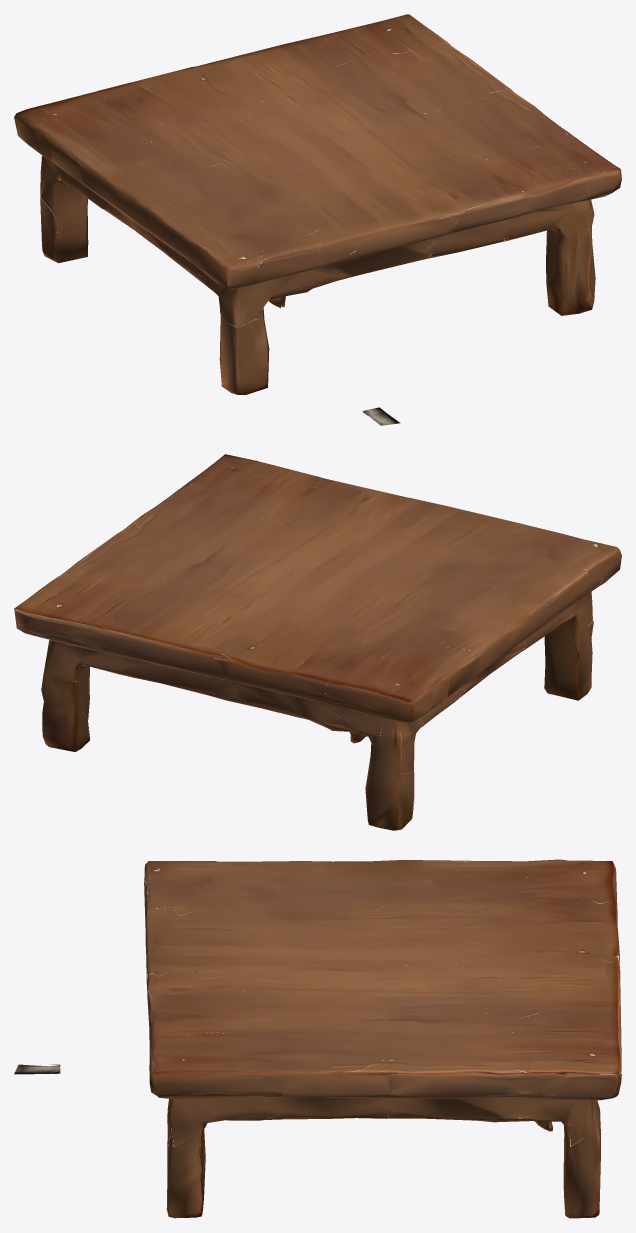
Rendered from tatami_room_set.glb.
3 views of the same model, one above another, from view 1: azimuth 30°, elevation 25°; view 2: azimuth 150°, elevation 25°; view 3: azimuth 270°, elevation 25° (orthographic). The views are drawn at different scales.
Parts seen in each view (by area): view 1: tripo_node_ee1250b7-4560-49da-b3e0-5acd9172738f; view 2: tripo_node_ee1250b7-4560-49da-b3e0-5acd9172738f; view 3: tripo_node_ee1250b7-4560-49da-b3e0-5acd9172738f.
Part boxes in pixels (<box>): tripo_node_ee1250b7-4560-49da-b3e0-5acd9172738f: <box>14,14,621,425</box>; tripo_node_ee1250b7-4560-49da-b3e0-5acd9172738f: <box>14,454,621,830</box>; tripo_node_ee1250b7-4560-49da-b3e0-5acd9172738f: <box>14,859,621,1218</box>.
Bounding box in the file's own units: 1.16 × 0.4017 × 1.39.
Materials: 1 (1 with a texture image).
